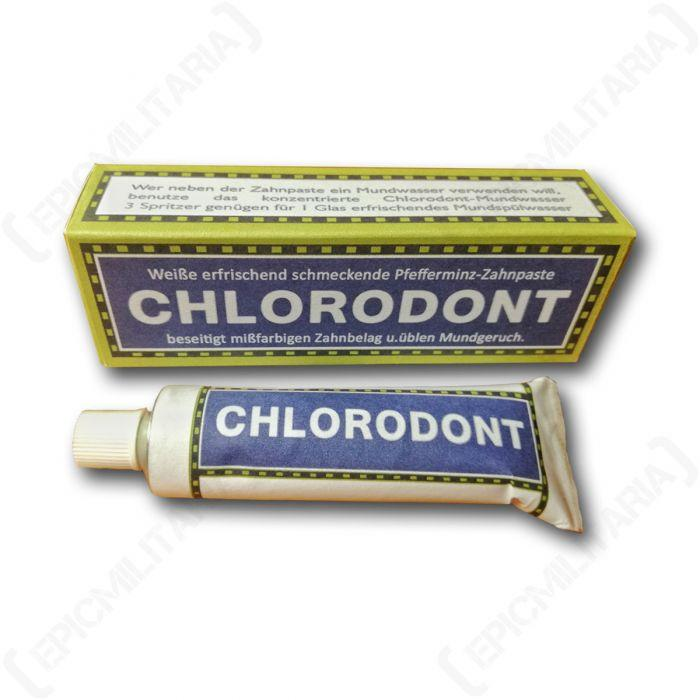toothpaste: (54, 354, 641, 584)
